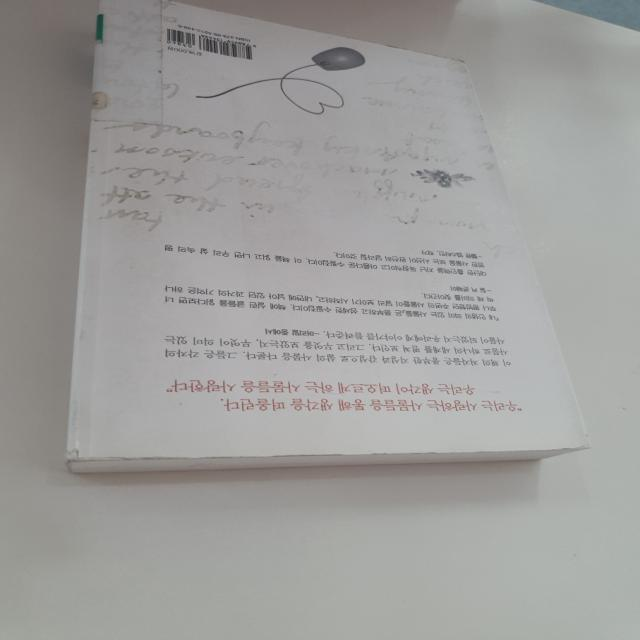Wornout: (133, 451, 344, 465), (370, 41, 470, 66), (519, 431, 601, 456), (59, 449, 133, 474), (369, 446, 501, 460)
